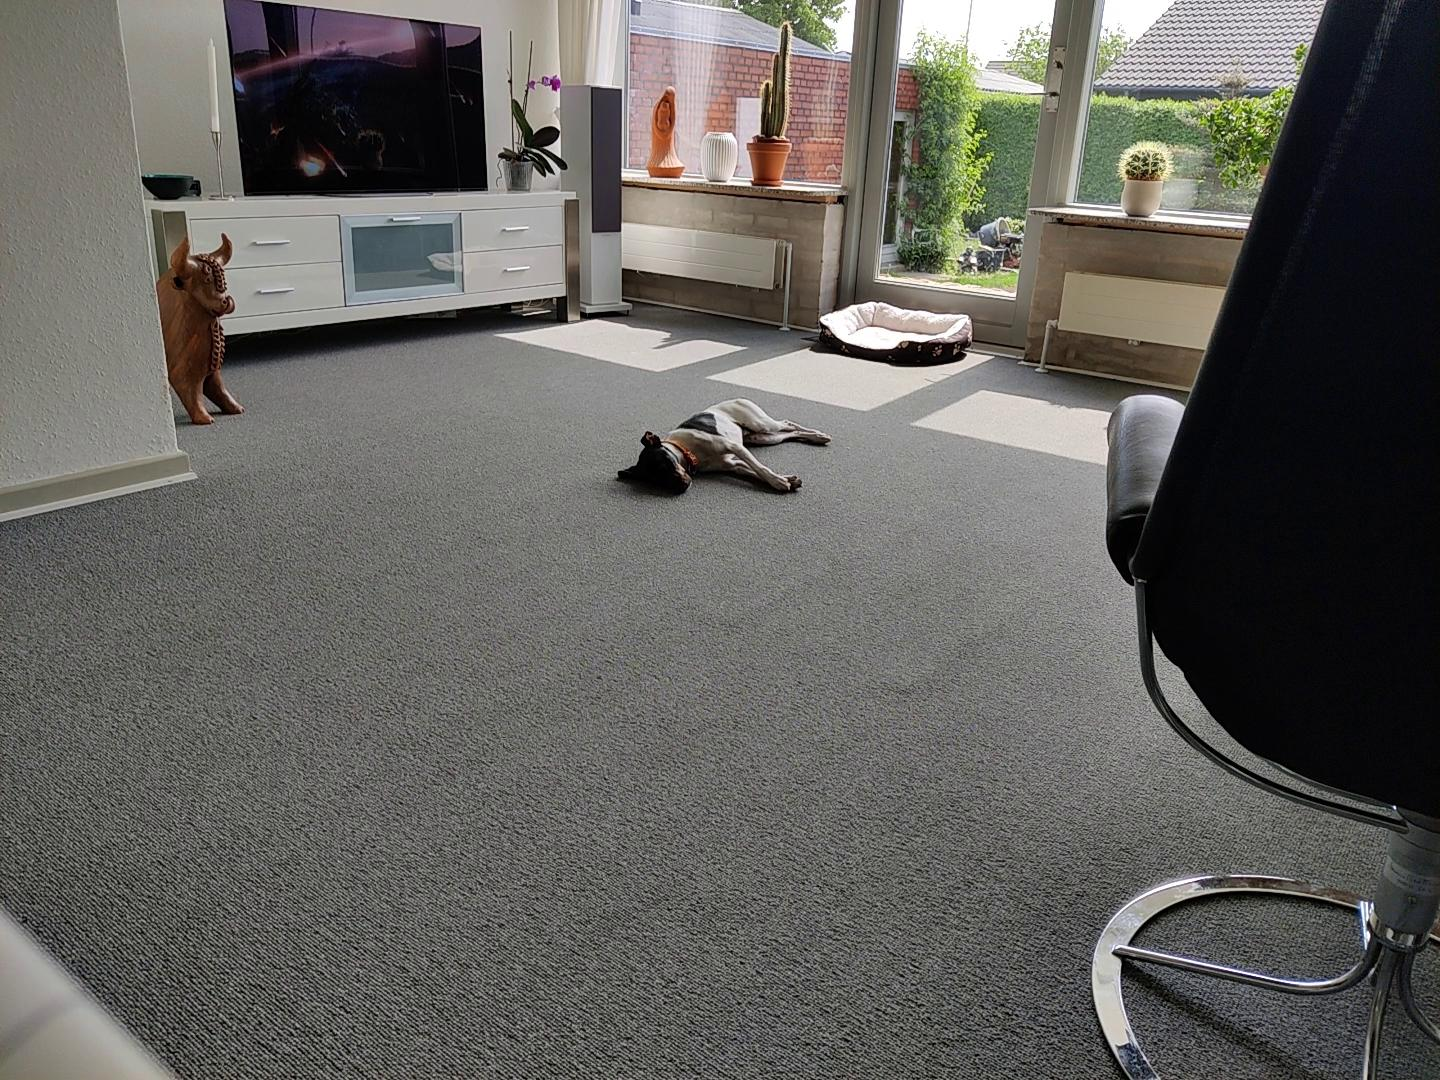Dog: (612, 393, 833, 498)
